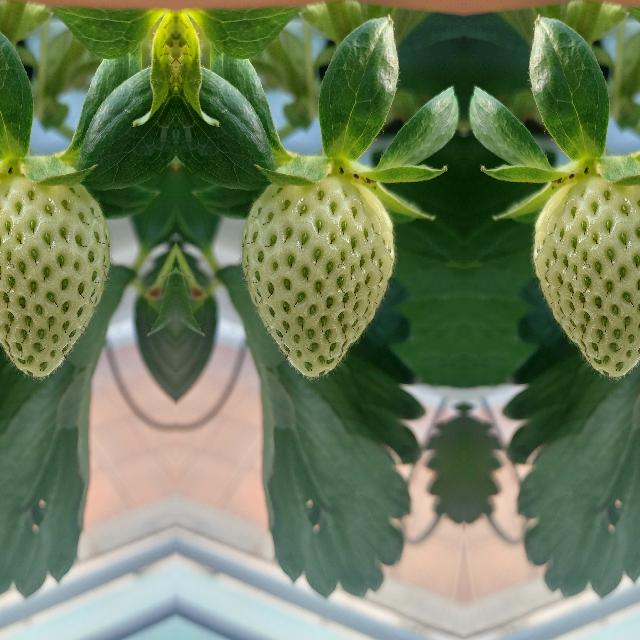Health_25: (240, 174, 394, 376), (0, 174, 109, 376), (532, 174, 640, 376)
